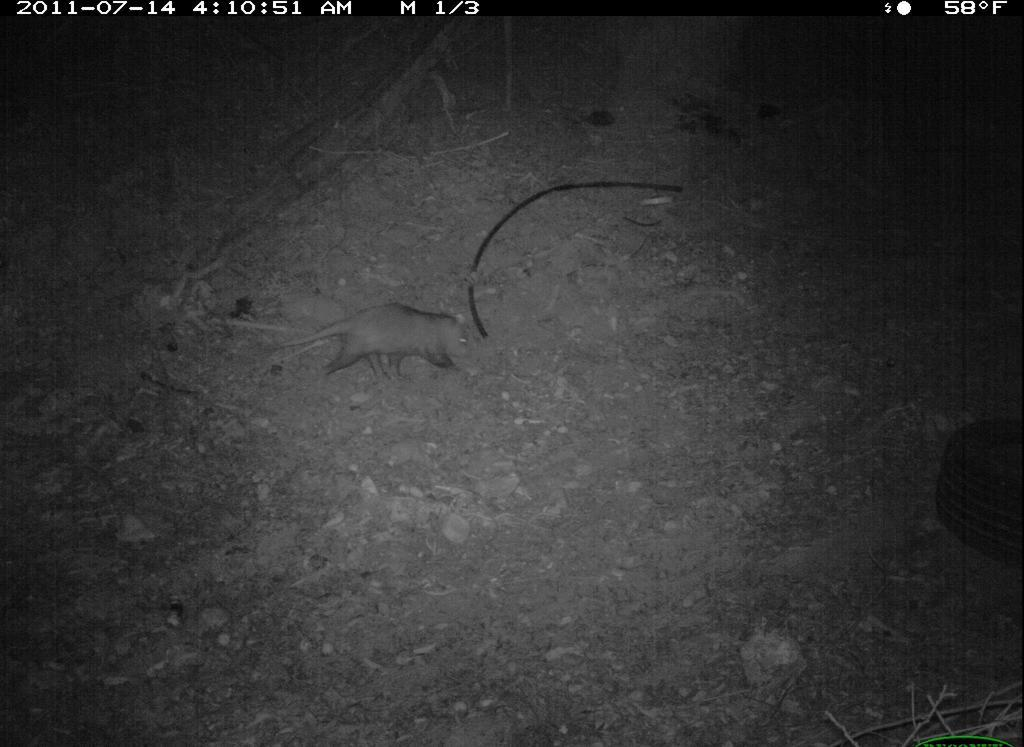opossum: (283, 297, 510, 387)
